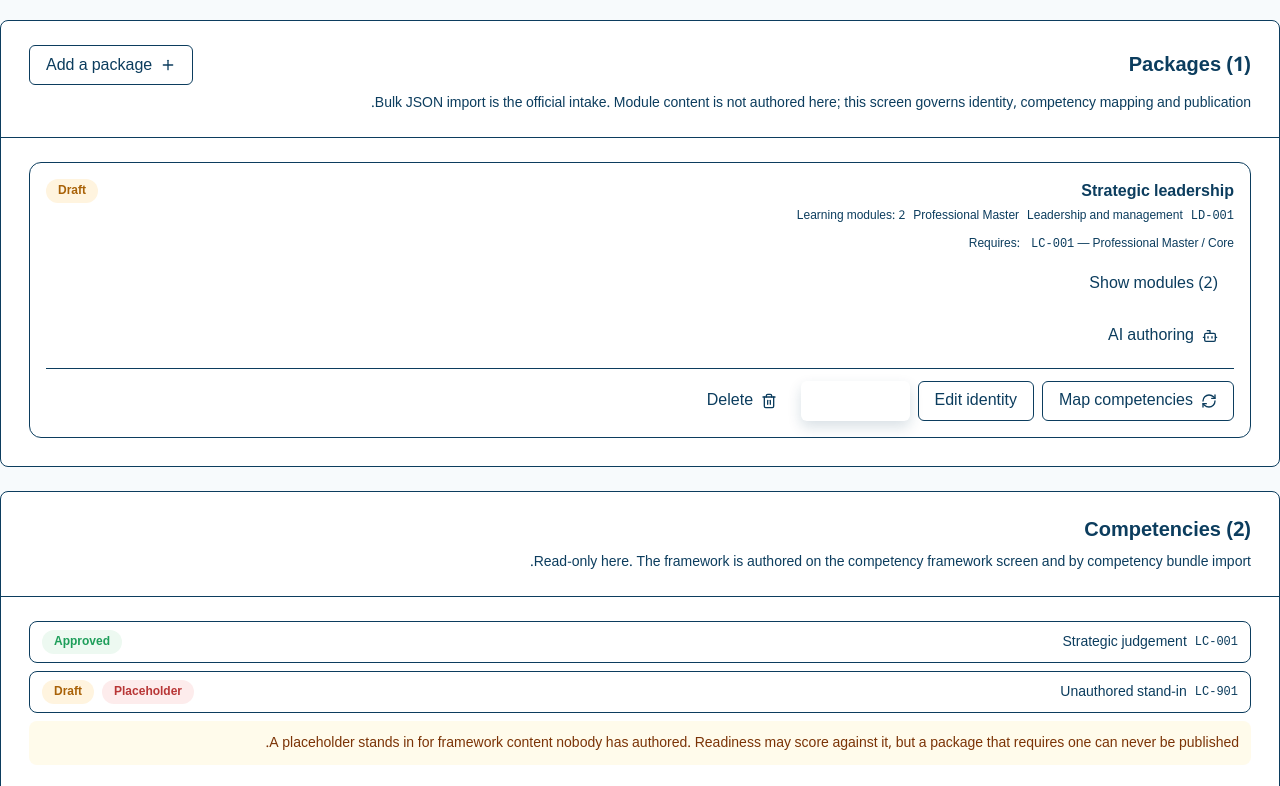
Scenario: AcademicLibraryPage › answers ACADEMIC_PACKAGE_SCHOOL_NOT_APPROVED with the sentence for that code
(page scrolled)
What coordinates should you click on to do the following:
click the button "Publish"
I would click on:
 (855, 401)
Its box is left=801, top=381, right=910, bottom=421.
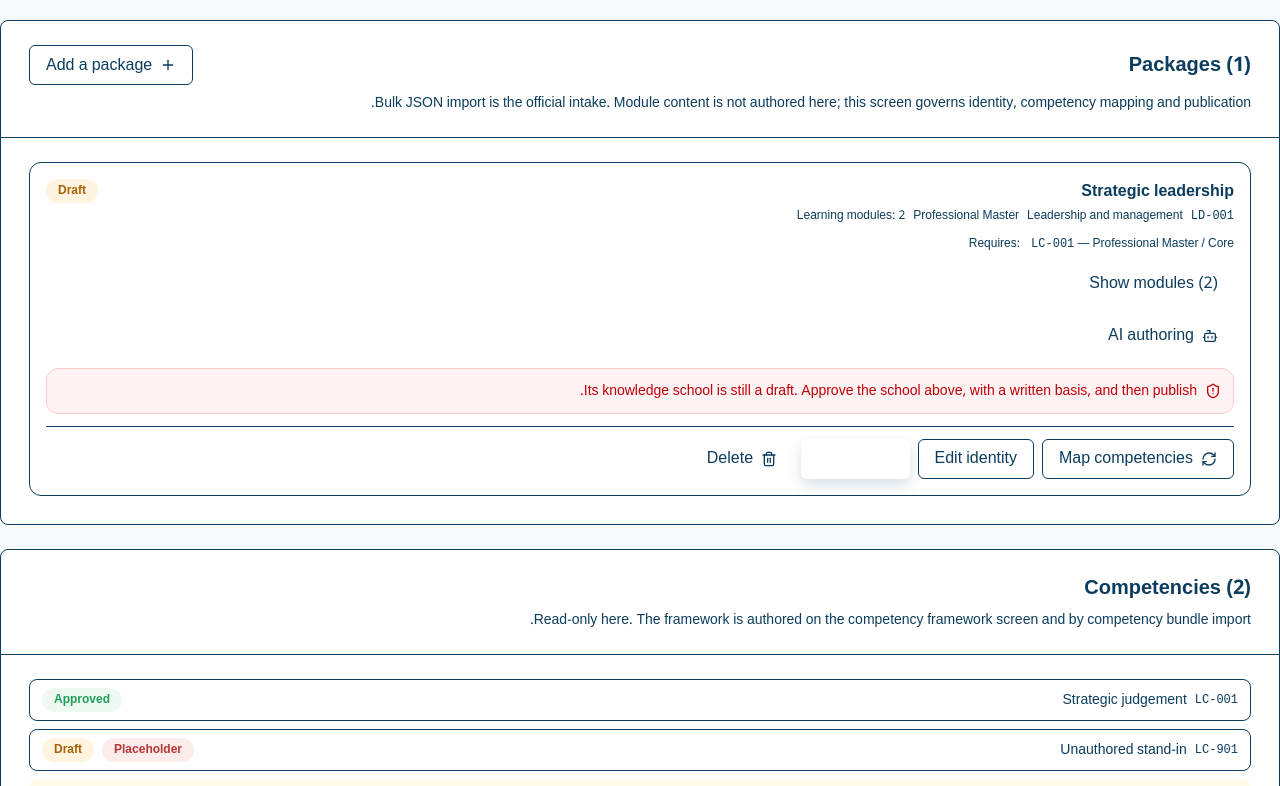
Expected: the text "knowledge school is still a draft" is shown, left=580, top=376, right=1197, bottom=405
